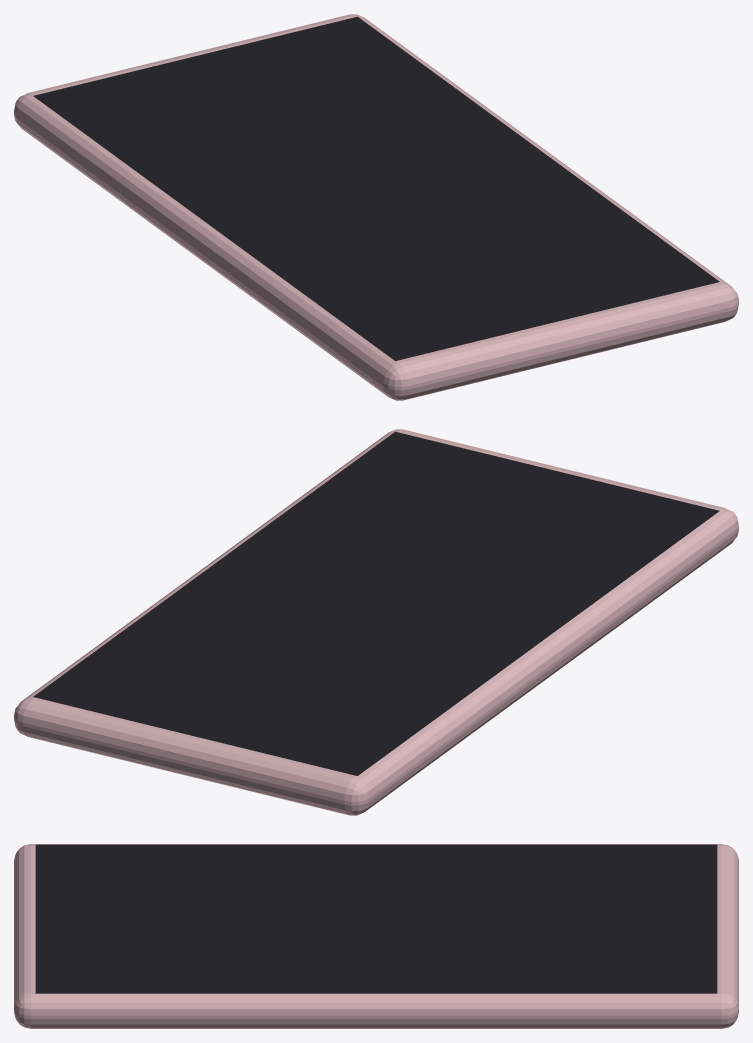
File: xiaomi-model-91-budget-2021.glb
The picture shows the model from 3 angles, top to bottom: view 1: azimuth 30°, elevation 25°; view 2: azimuth 150°, elevation 25°; view 3: azimuth 270°, elevation 25°; orthographic projection. The views are drawn at different scales.
Visible parts, largest first — view 1: Phone_Screen, Phone_Body; view 2: Phone_Screen, Phone_Body; view 3: Phone_Screen, Phone_Body.
Part boxes in pixels (x1,y1,x2,y2): Phone_Screen: (33,16,719,360); Phone_Body: (14,14,738,400); Phone_Screen: (33,431,719,775); Phone_Body: (14,429,738,815); Phone_Screen: (35,844,717,993); Phone_Body: (14,844,738,1028).
Bounding box in the file's own units: 0.0796 × 0.0079 × 0.1506.
